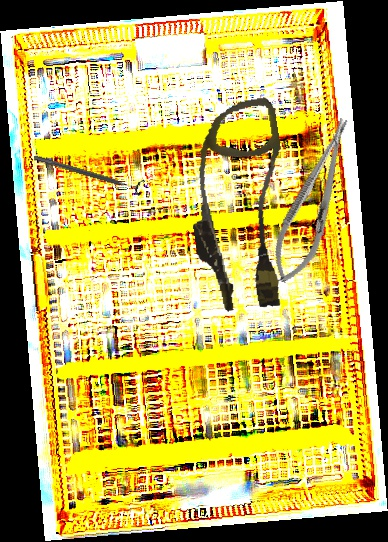Cannula: (174, 96, 306, 317)
Fixation Ring: (31, 148, 146, 198)
Needle Holder: (262, 111, 366, 291)
